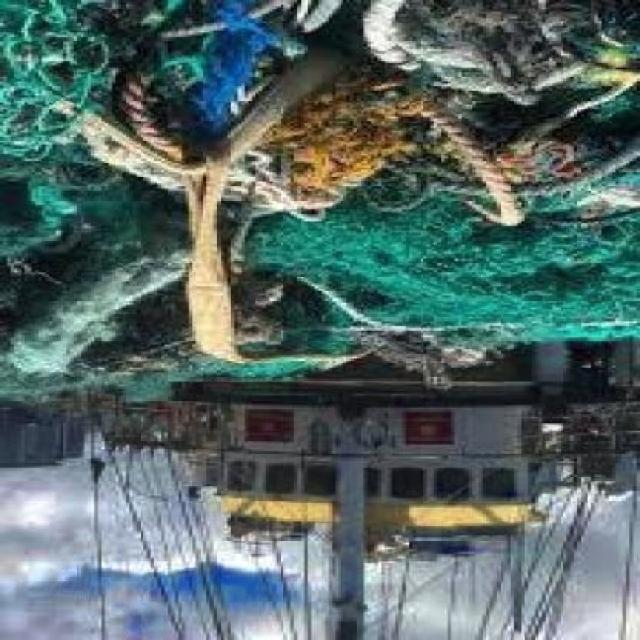net: (20, 1, 640, 374)
